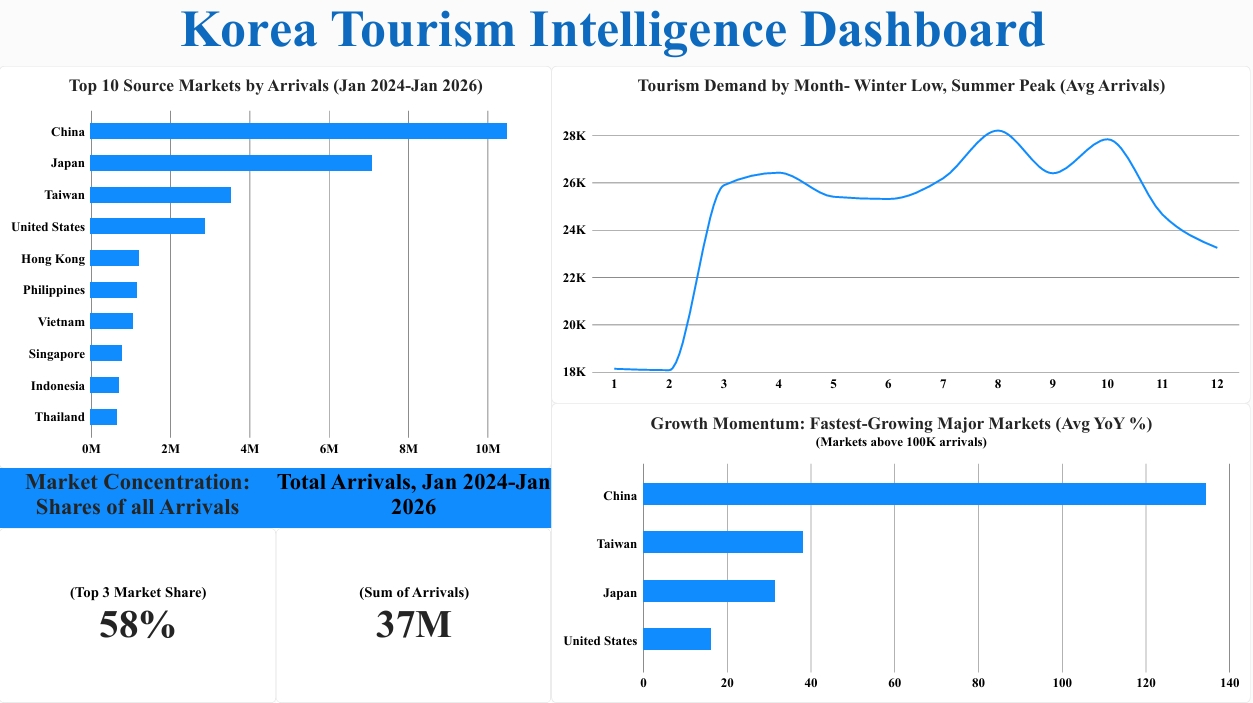

This screenshot's page, from the dashboard's own definition file:
{"tool":"powerbi","page":{"name":"Page 1","canvas":[1920,1080],"ordinal":0},"visuals":[{"type":"clusteredBarChart","title":"Top 10 Source Markets by Arrivals (Jan 2024-Jan 2026)","fields":{"Category":["korea_arrivals_clean - korea_arrivals_clean csv.country"],"Y":["Sum(korea_arrivals_clean - korea_arrivals_clean csv.arrivals)"]},"box":[0,102.5,847.5,617.5],"z":0},{"type":"lineChart","title":"Tourism Demand by Month- Winter Low, Summer Peak (Avg Arrivals)","fields":{"Category":["korea_arrivals_clean - korea_arrivals_clean csv.month"],"Y":["Avg(korea_arrivals_clean - korea_arrivals_clean csv.arrivals)"]},"box":[847.5,102.5,1072.5,517.5],"z":1000},{"type":"textbox","box":[277.8,0,1366.3,102],"z":2000},{"type":"cardVisual","title":"Total Arrivals, Jan 2024-Jan 2026","fields":{"Data":["Sum(korea_arrivals_clean - korea_arrivals_clean csv.arrivals)"]},"box":[425,720,422.5,360],"z":3000},{"type":"cardVisual","title":"Market Concentration: Shares of all Arrivals","fields":{"Data":["arrivals_data.Top 3 Market Share"]},"box":[0,720,425,360],"z":4000},{"type":"clusteredBarChart","title":"Growth Momentum: Fastest-Growing Major Markets (Avg YoY %)","fields":{"Category":["arrivals_data.country"],"Y":["Avg(arrivals_data.yoy_growth_pct)"]},"box":[847.5,620,1072.5,460],"z":5000}]}

Visuals, with their boxes in screenshot pixels (x1, y1, x2, y2), scaled from the page's 1920x1080 canvas onto the 1253x703 screenshot:
"Top 10 Source Markets by Arrivals (Jan 2024-Jan 2026)" clusteredBarChart: locate(0, 67, 553, 469)
"Tourism Demand by Month- Winter Low, Summer Peak (Avg Arrivals)" lineChart: locate(553, 67, 1252, 404)
textbox: locate(181, 0, 1073, 66)
"Total Arrivals, Jan 2024-Jan 2026" cardVisual: locate(277, 469, 553, 702)
"Market Concentration: Shares of all Arrivals" cardVisual: locate(0, 469, 277, 702)
"Growth Momentum: Fastest-Growing Major Markets (Avg YoY %)" clusteredBarChart: locate(553, 404, 1252, 702)
